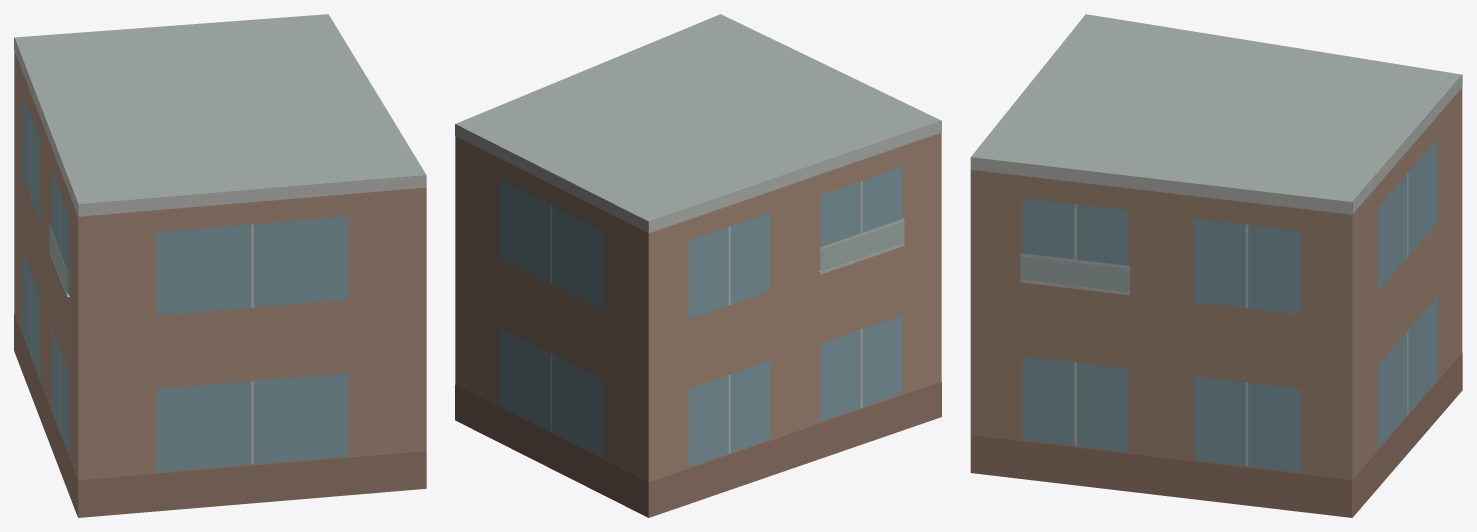
File: survey-upis-32782827.glb
The picture shows the model from 3 angles, left to right: view 1: azimuth 30°, elevation 25°; view 2: azimuth 150°, elevation 25°; view 3: azimuth 270°, elevation 25°; orthographic projection. The views are drawn at different scales.
Parts seen in each view (by area): view 1: survey-upis-32782827.tmp; view 2: survey-upis-32782827.tmp; view 3: survey-upis-32782827.tmp.
Boxes of the visible parts, x1,y1,x2,y2 form: survey-upis-32782827.tmp: (14, 14, 426, 517); survey-upis-32782827.tmp: (455, 14, 941, 517); survey-upis-32782827.tmp: (970, 14, 1462, 517).
Bounding box in the file's own units: 7.8 × 6.1 × 8.62.
